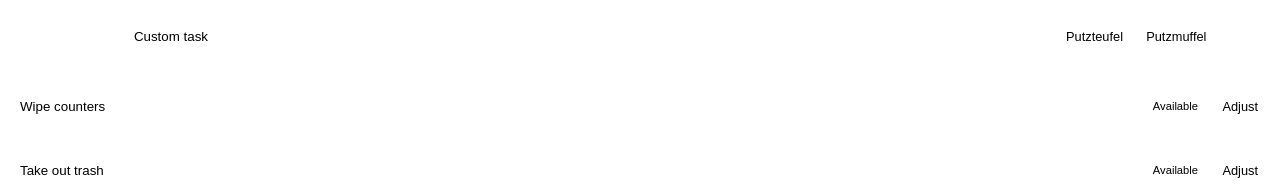
Test case: TaskTemplatePicker.vue › marks a level-exclusive template as not available
The width and height of the screenshot is (1280, 195).
Click the button with test id "picker-level-putzmuffel" at (1176, 36), box [1137,14,1216,58]
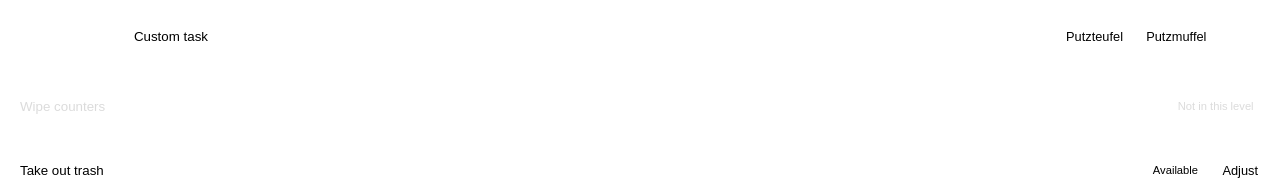
Expected: the button with test id "picker-template-kitchen_counters" is disabled, [16,84,1264,128]
